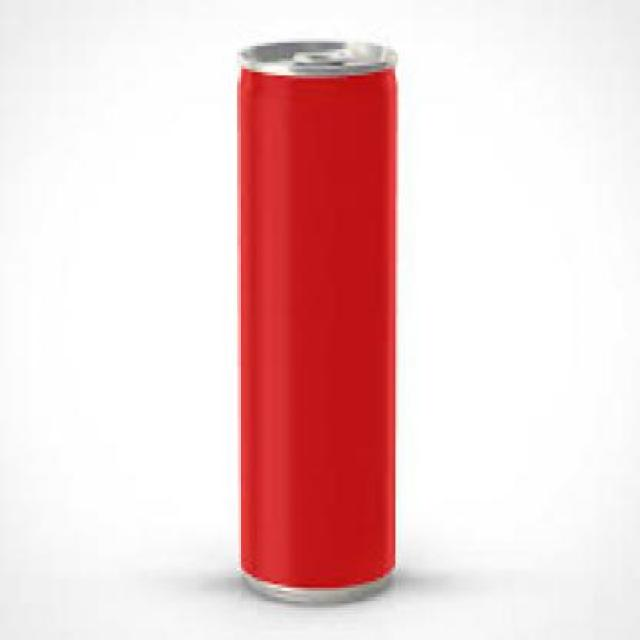METAL: (235, 39, 396, 601)
